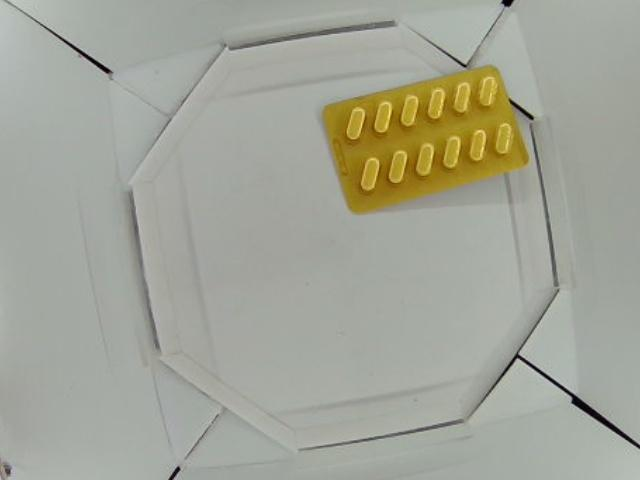Medicine: (320, 63, 529, 213)
